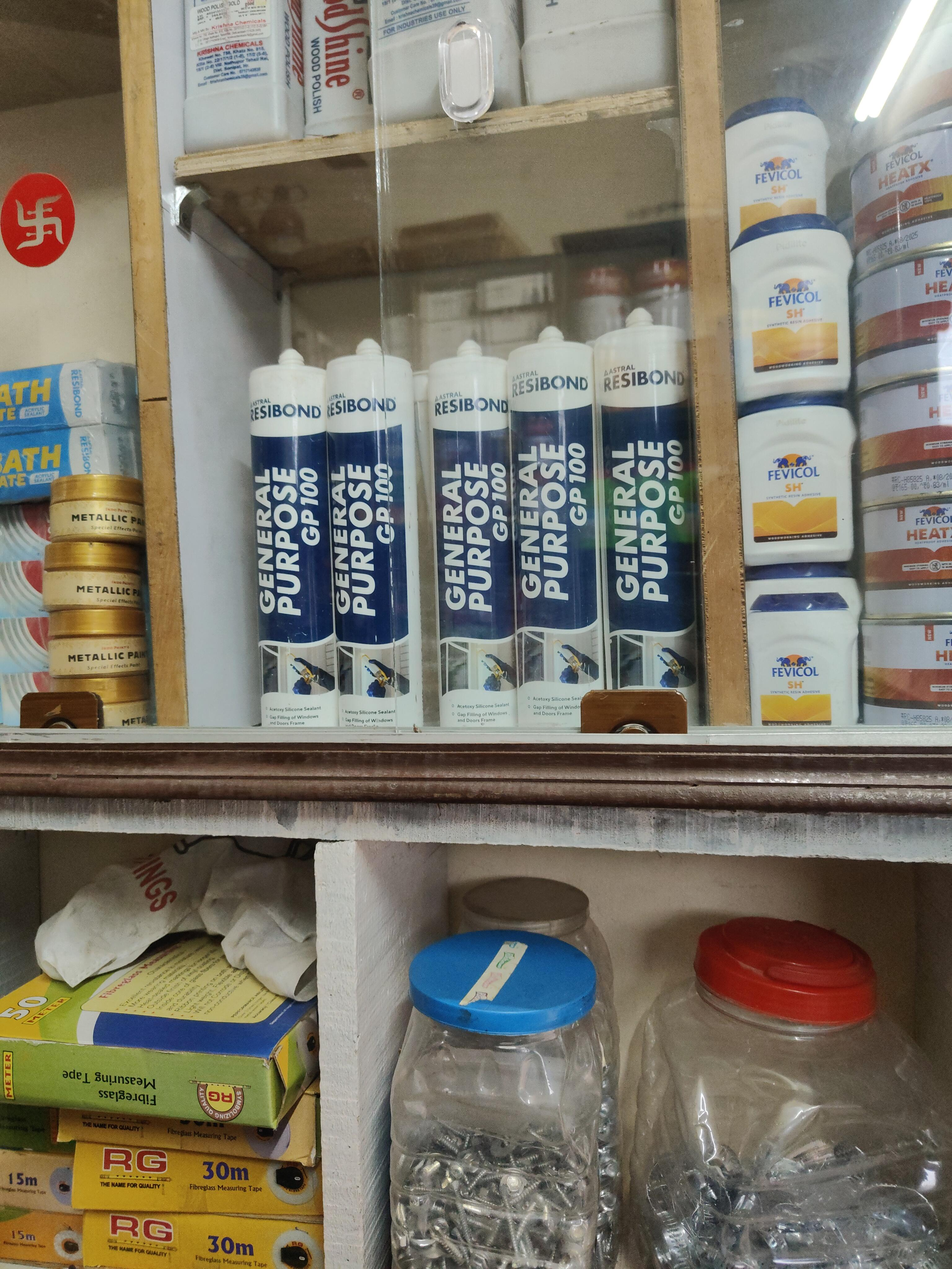Fevicol_HEATX: (851, 124, 952, 273), (853, 250, 952, 392), (858, 372, 952, 506), (863, 500, 952, 617), (861, 620, 952, 727)
RESIBOND_GENERAL PURPOSE GP 100: (595, 308, 700, 709), (508, 327, 605, 731), (328, 339, 423, 728), (428, 341, 517, 728), (249, 349, 339, 727)
